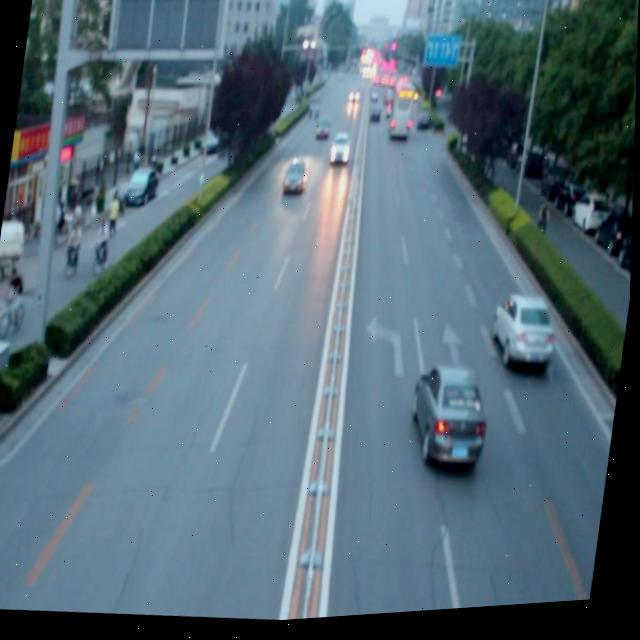car: (407, 362, 496, 480), (486, 292, 563, 380), (281, 157, 311, 200)
